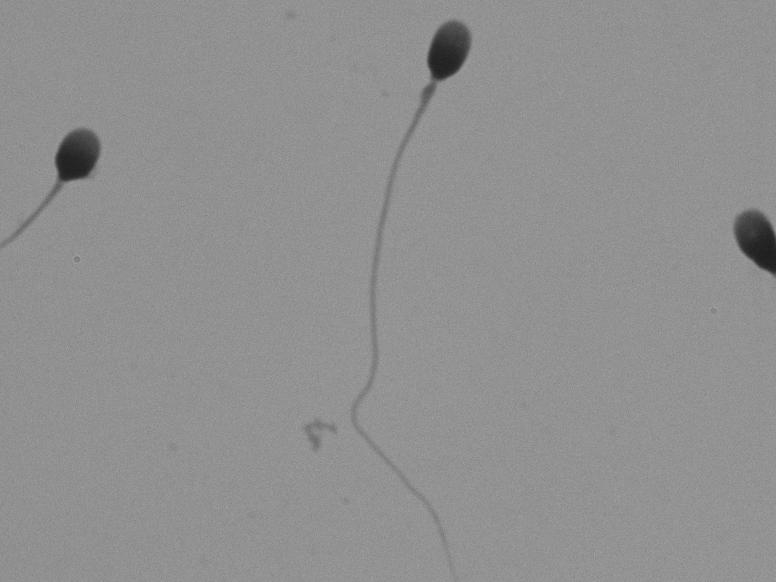Normal: (326, 5, 497, 561), (10, 72, 152, 314)
